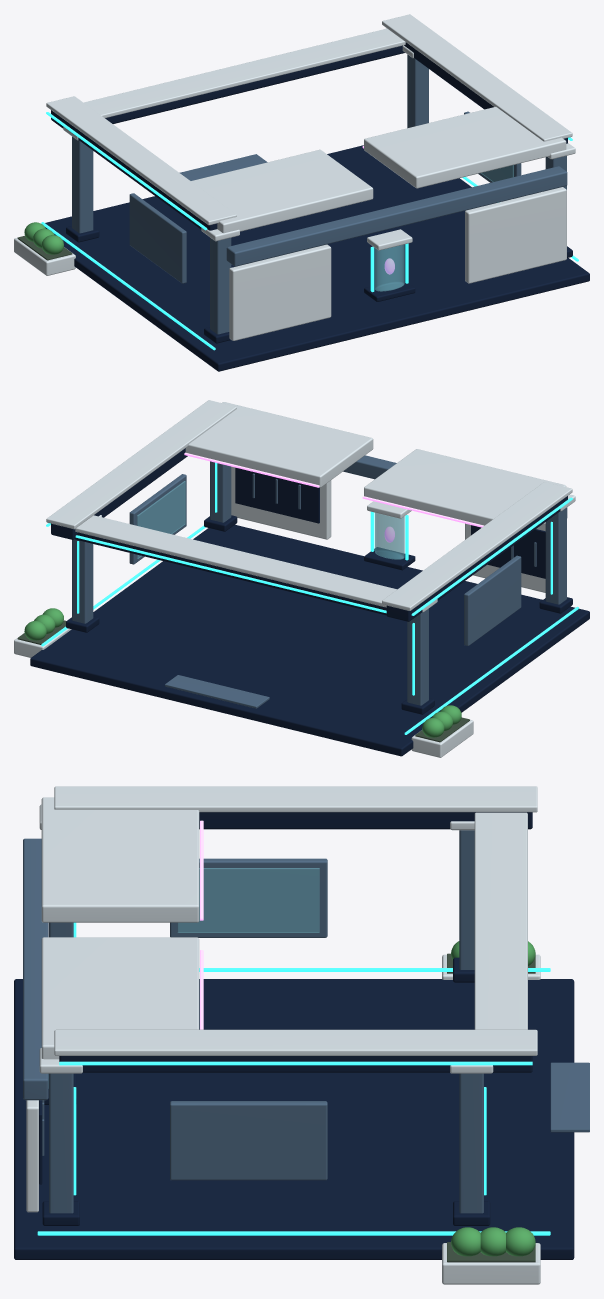
The model's file is LAB_Tier_1.glb.
3 views of the same model, one above another, from view 1: azimuth 30°, elevation 25°; view 2: azimuth 150°, elevation 25°; view 3: azimuth 270°, elevation 25° (orthographic). The views are drawn at different scales.
Visible parts, largest first — view 1: LAB_Floor_Fascia, LAB_Roof_Back_R, LAB_Roof_Back_L, LAB_Wall_Straight_L, LAB_Wall_Straight_R, LAB_Back_Header, LAB_Entrance_HeaderCap, LAB_Roof_BeamCap_L, LAB_Roof_BeamCap_R, LAB_Window_Frame_L, LAB_Entrance_Header, LAB_Pillar_L_-9 (+12 smaller); view 2: LAB_Floor_Fascia, LAB_Roof_Back_R, LAB_Roof_Back_L, LAB_Entrance_HeaderCap, LAB_Roof_BeamCap_L, LAB_Roof_BeamCap_R, LAB_Window_Frame_L, LAB_Wall_Inset_R, LAB_Window_Frame_R, LAB_Wall_Straight_R, LAB_Entrance_Header, LAB_Pillar_L_-9 (+17 smaller); view 3: LAB_Floor_Fascia, LAB_Roof_Back_L, LAB_Roof_Back_R, LAB_Roof_BeamCap_R, LAB_Window_Frame_R, LAB_Roof_BeamCap_L, LAB_Entrance_HeaderCap, LAB_Window_Frame_L, LAB_GlassPanel_L, LAB_Roof_Beam_R, LAB_Back_Header, LAB_Roof_Beam_L (+15 smaller).
Boxes of the visible parts, x1,y1,x2,y2 form: LAB_Floor_Fascia: (45, 145, 589, 371); LAB_Roof_Back_R: (364, 106, 566, 188); LAB_Roof_Back_L: (191, 149, 373, 233); LAB_Wall_Straight_L: (229, 244, 331, 340); LAB_Wall_Straight_R: (465, 187, 566, 283); LAB_Back_Header: (226, 166, 567, 266); LAB_Entrance_HeaderCap: (84, 28, 405, 118); LAB_Roof_BeamCap_L: (46, 96, 236, 225); LAB_Roof_BeamCap_R: (382, 14, 572, 141); LAB_Window_Frame_L: (129, 193, 186, 283); LAB_Entrance_Header: (105, 45, 404, 123); LAB_Pillar_L_-9: (72, 136, 93, 233); LAB_Floor_Fascia: (30, 524, 589, 756); LAB_Roof_Back_R: (185, 402, 373, 487); LAB_Roof_Back_L: (364, 449, 566, 525); LAB_Entrance_HeaderCap: (75, 515, 396, 607); LAB_Roof_BeamCap_L: (382, 482, 572, 610); LAB_Roof_BeamCap_R: (46, 400, 236, 529); LAB_Window_Frame_L: (464, 555, 521, 645); LAB_Wall_Inset_R: (235, 467, 319, 523); LAB_Window_Frame_R: (129, 474, 186, 564); LAB_Wall_Straight_R: (231, 466, 331, 539); LAB_Entrance_Header: (75, 532, 386, 615); LAB_Pillar_L_-9: (407, 609, 428, 705); LAB_Floor_Fascia: (14, 979, 574, 1259); LAB_Roof_Back_L: (41, 797, 199, 922); LAB_Roof_Back_R: (41, 937, 199, 1059); LAB_Roof_BeamCap_R: (54, 1029, 537, 1055); LAB_Window_Frame_R: (170, 1101, 327, 1180); LAB_Roof_BeamCap_L: (54, 786, 537, 812); LAB_Entrance_HeaderCap: (474, 812, 527, 1029); LAB_Window_Frame_L: (170, 858, 327, 937); LAB_GlassPanel_L: (177, 868, 319, 932); LAB_Roof_Beam_R: (59, 1056, 532, 1072); LAB_Back_Header: (23, 838, 48, 1100); LAB_Roof_Beam_L: (199, 812, 532, 829).
Bounding box in the file's own units: 37.2 × 11.87 × 29.2.
